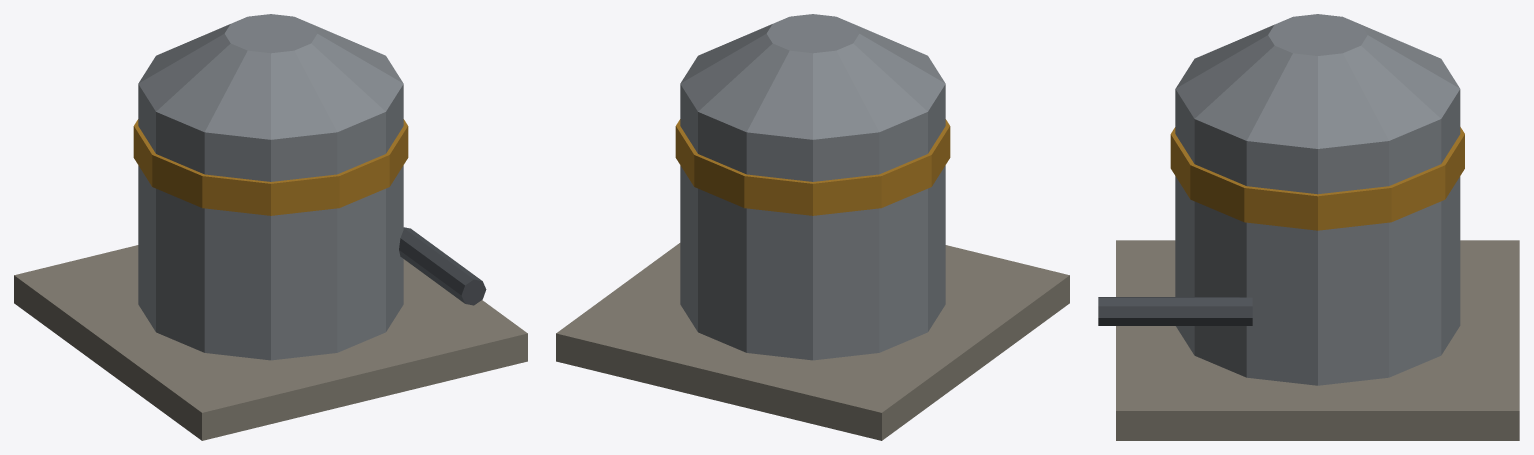
The model's file is RF_Structure_DepotFuel_Intact.glb.
3 views of the same model, side by side, from view 1: azimuth 30°, elevation 25°; view 2: azimuth 150°, elevation 25°; view 3: azimuth 270°, elevation 25° (orthographic). The views are drawn at different scales.
Parts seen in each view (by area): view 1: RF_Structure_DepotFuel_Intact; view 2: RF_Structure_DepotFuel_Intact; view 3: RF_Structure_DepotFuel_Intact.
Part boxes in pixels (box(x1,y1,x2,y2)): RF_Structure_DepotFuel_Intact: box(14, 14, 527, 440); RF_Structure_DepotFuel_Intact: box(556, 14, 1069, 440); RF_Structure_DepotFuel_Intact: box(1098, 14, 1519, 440).
Size of the model in its own units: 3.4 by 2.98 by 3.55.
